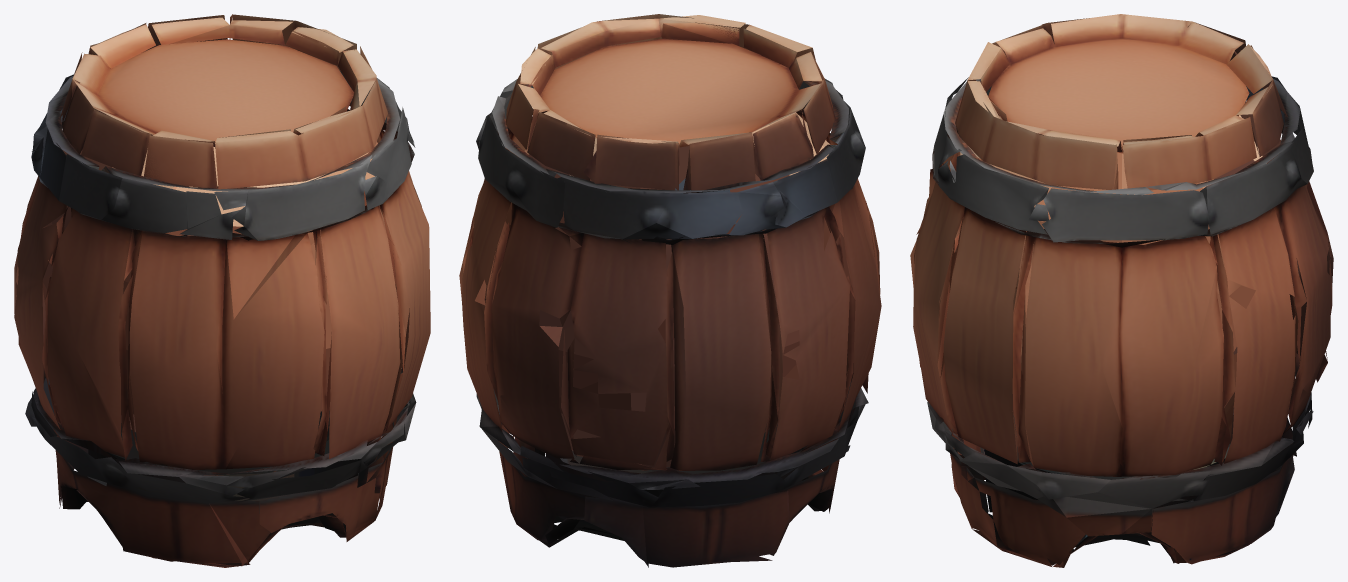
The model's file is barrel.fbx.
The picture shows the model from 3 angles, left to right: view 1: azimuth 30°, elevation 25°; view 2: azimuth 150°, elevation 25°; view 3: azimuth 270°, elevation 25°; orthographic projection.
Visible parts, largest first — view 1: barrel; view 2: barrel; view 3: barrel.
Boxes of the visible parts, x1,y1,x2,y2 form: barrel: (14,14,430,567); barrel: (459,14,881,567); barrel: (910,14,1333,567).
Size of the model in its own units: 0.4336 by 0.4826 by 0.4317.
Materials: 1 (1 with a texture image).
